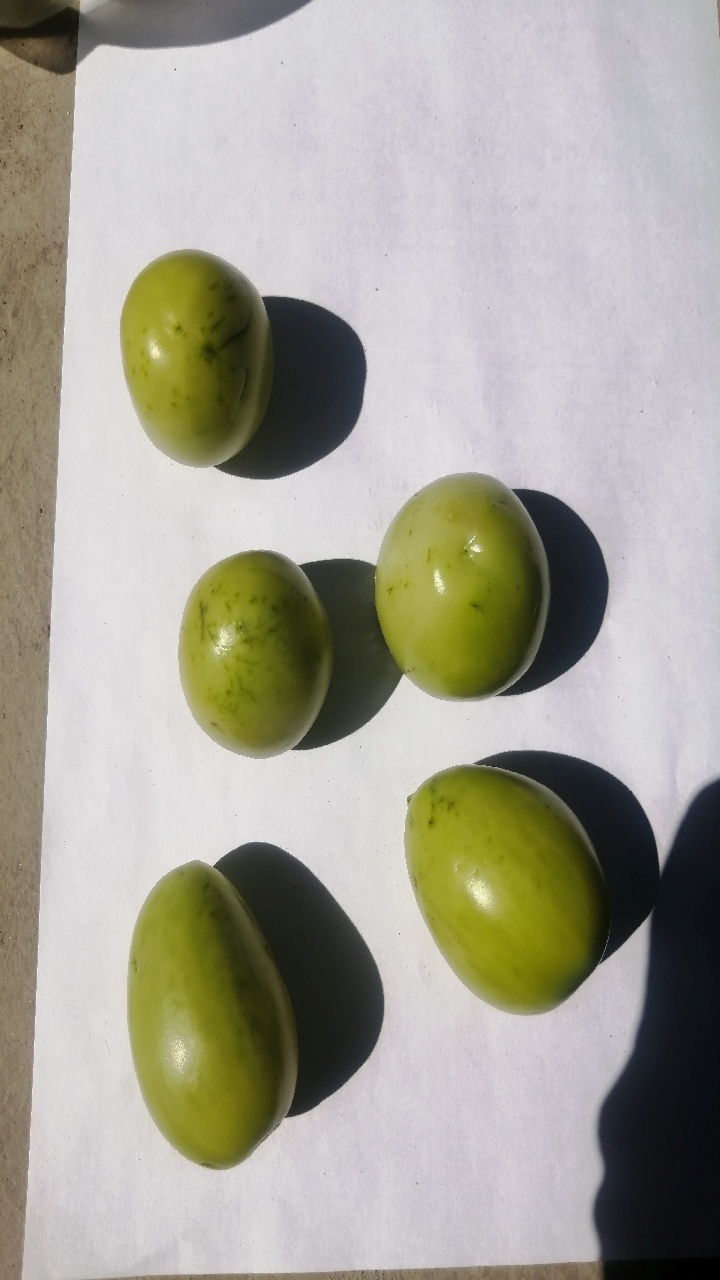tomateVerde: (100, 835, 321, 1183), (380, 743, 623, 1035), (358, 460, 561, 725), (92, 237, 298, 489), (166, 532, 346, 783)
